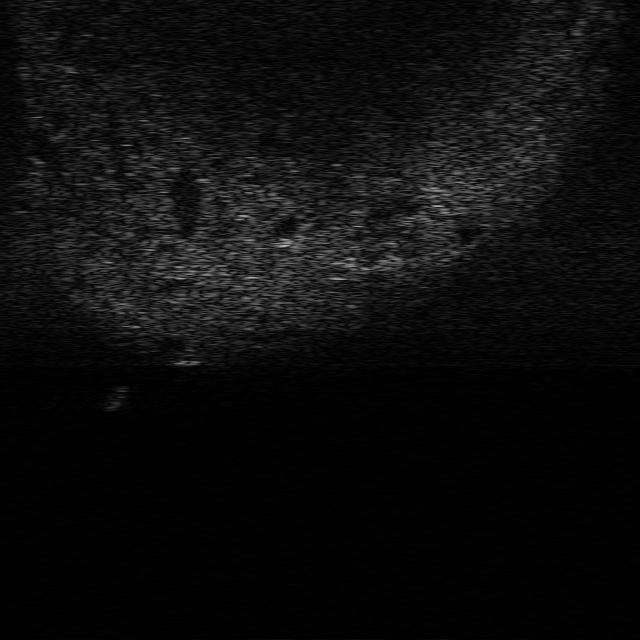cylinder: (99, 383, 130, 412)
